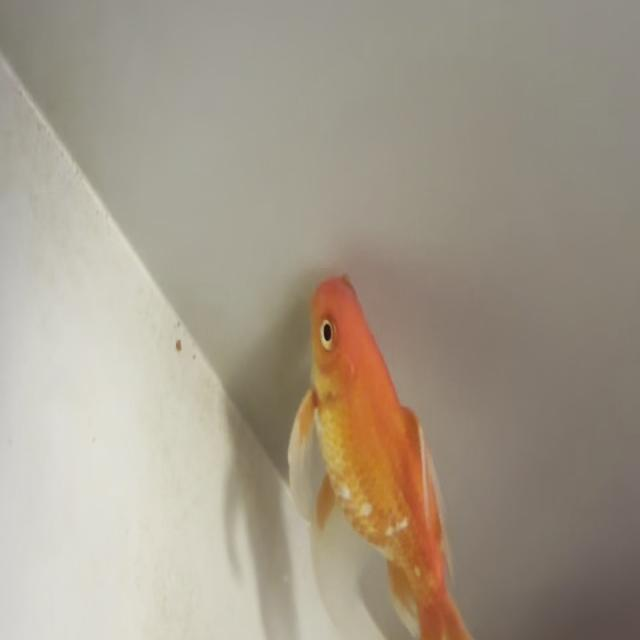fish: (288, 269, 492, 640)
